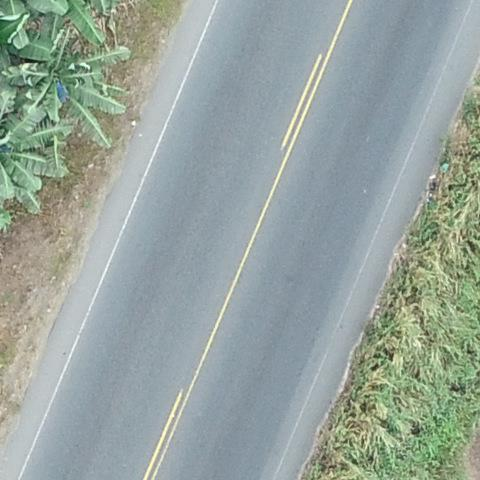Banana-plant: (18, 36, 135, 151), (0, 90, 79, 205)
